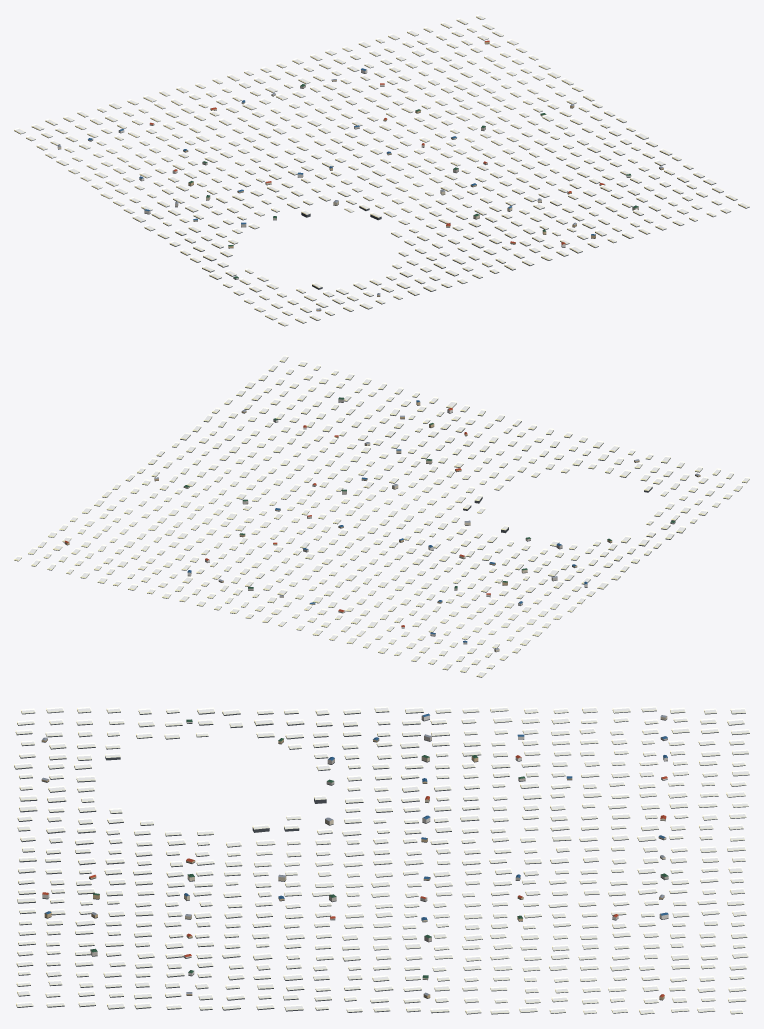
Rendered from buildings_T_E02_N01.glb.
3 renders of one model, top to bottom at view 1: azimuth 30°, elevation 25°; view 2: azimuth 150°, elevation 25°; view 3: azimuth 270°, elevation 25°, orthographic. The views are drawn at different scales.
Parts seen in each view (by area): view 1: T_E02_N01_roofs_agri_greenhouse_arch, T_E02_N01_slope_seating_foundations; view 2: T_E02_N01_roofs_agri_greenhouse_arch, T_E02_N01_slope_seating_foundations; view 3: T_E02_N01_roofs_agri_greenhouse_arch, T_E02_N01_slope_seating_foundations.
Part boxes in pixels (x1,y1,x2,y2): T_E02_N01_roofs_agri_greenhouse_arch: (14,14,749,325); T_E02_N01_slope_seating_foundations: (14,16,749,326); T_E02_N01_roofs_agri_greenhouse_arch: (14,355,749,676); T_E02_N01_slope_seating_foundations: (14,357,749,677); T_E02_N01_roofs_agri_greenhouse_arch: (14,706,749,1013); T_E02_N01_slope_seating_foundations: (14,708,749,1014).
Bounding box in the file's own units: 1775 × 42.39 × 1785.
